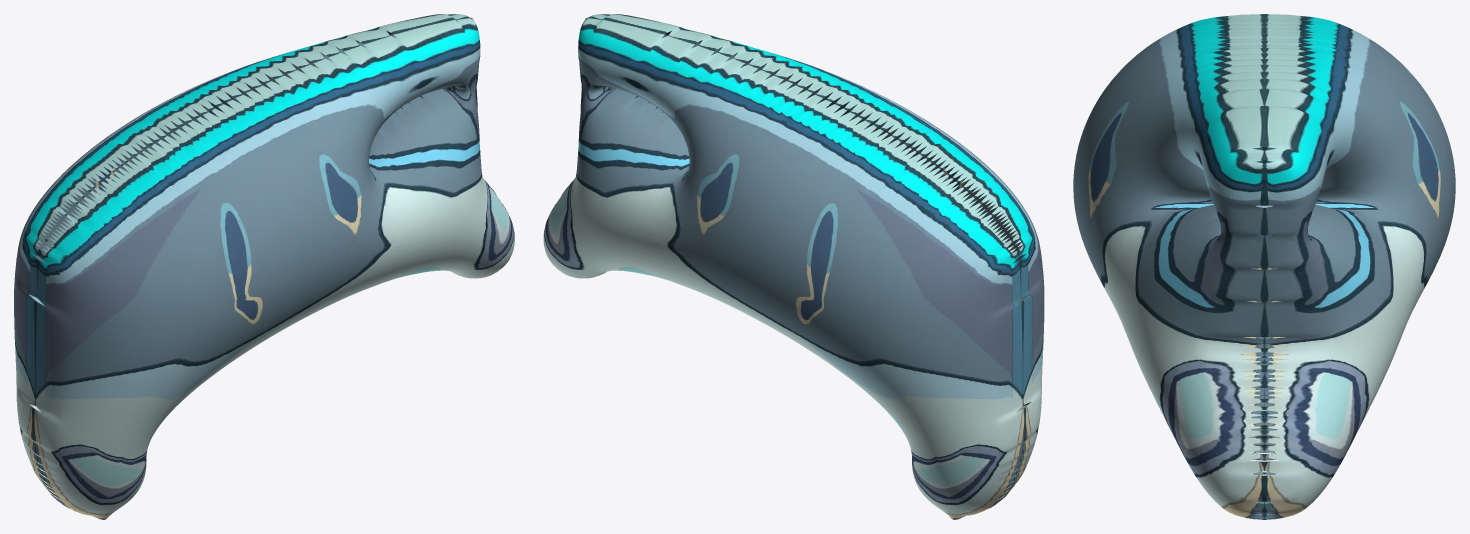
The model's file is curved_console.glb.
The picture shows the model from 3 angles, left to right: view 1: azimuth 30°, elevation 25°; view 2: azimuth 150°, elevation 25°; view 3: azimuth 270°, elevation 25°; orthographic projection. The views are drawn at different scales.
Parts seen in each view (by area): view 1: curved_console; view 2: curved_console; view 3: curved_console.
Part boxes in pixels (x1,y1,x2,y2): curved_console: (14,14,514,519); curved_console: (543,14,1044,519); curved_console: (1073,14,1455,519).
Bounding box in the file's own units: 0.9889 × 0.8035 × 0.5055.
1 material, 1 textured.
